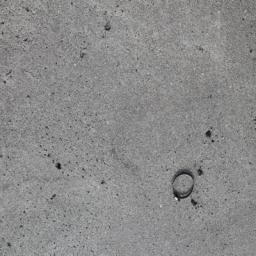FOD: (168, 167, 199, 206)
